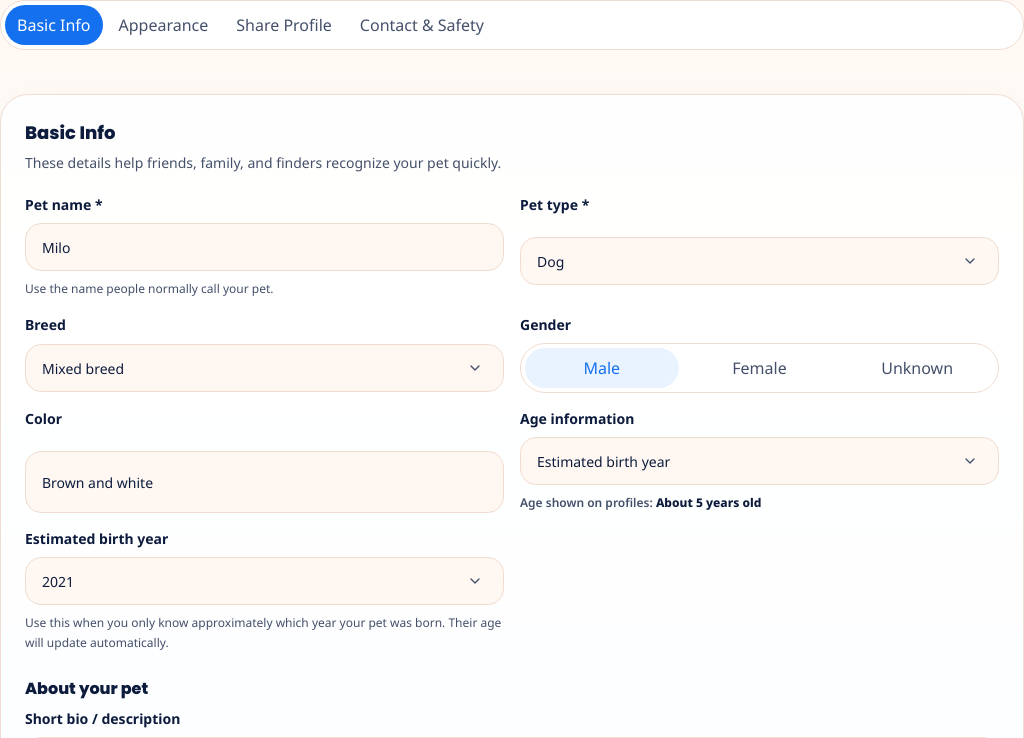
it: PetProfileForm Sharing and Contact mobile UX › exposes one contact-source radiogroup with exactly one selected radio
The width and height of the screenshot is (1024, 738).
Click the tab "Contact & Safety": (422, 25) [348,5,496,45]
(page scrolled)
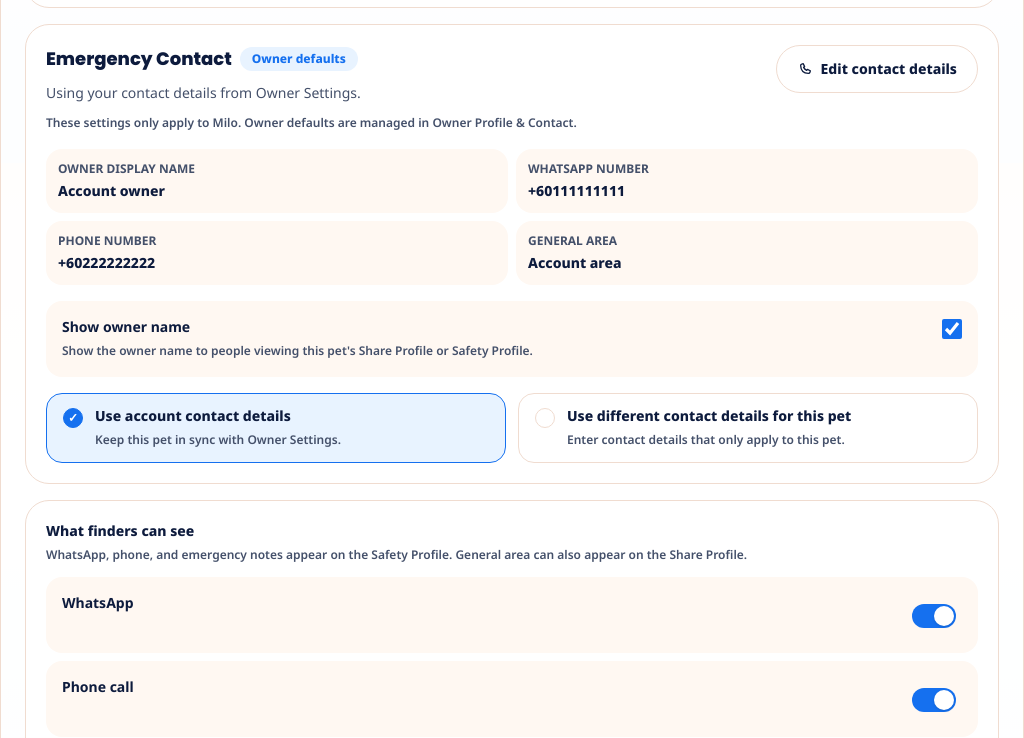
Now the radio button labelled "Use account contact details" is checked
Now the radio button labelled "Use different contact details for this pet" is not checked, box [518,393,978,463]
Press ArrowRight in the radio button labelled "Use account contact details", box [46,393,506,463]
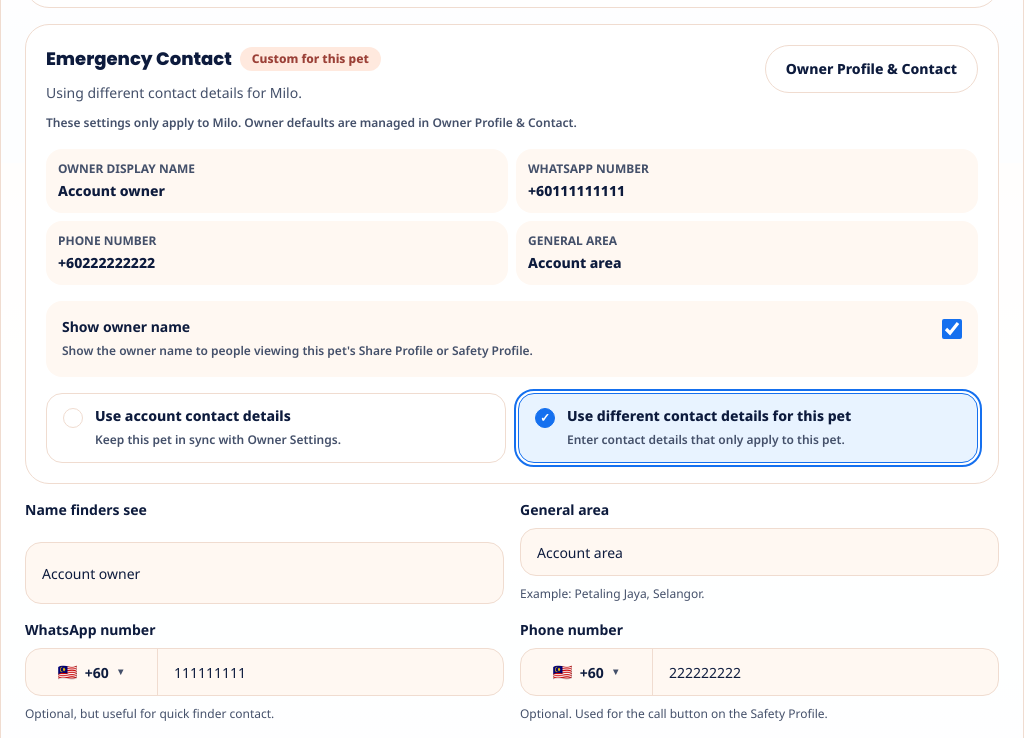
Now the radio button labelled "Use account contact details" is not checked, box [46,393,506,463]
Now the radio button labelled "Use different contact details for this pet" is checked, box [518,393,978,463]
